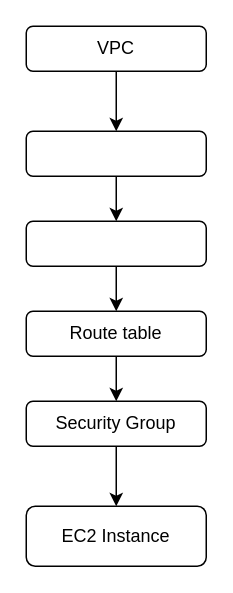
Image size: 233x593. Some labels were removed from this diagram. The shapes that lost their labels are listed below. From the top down, each one's box as (x1, y1, x2, y2) in pixels, then its label:
(25, 130, 206, 176): Internet Gateway
(25, 220, 206, 266): Subnet
